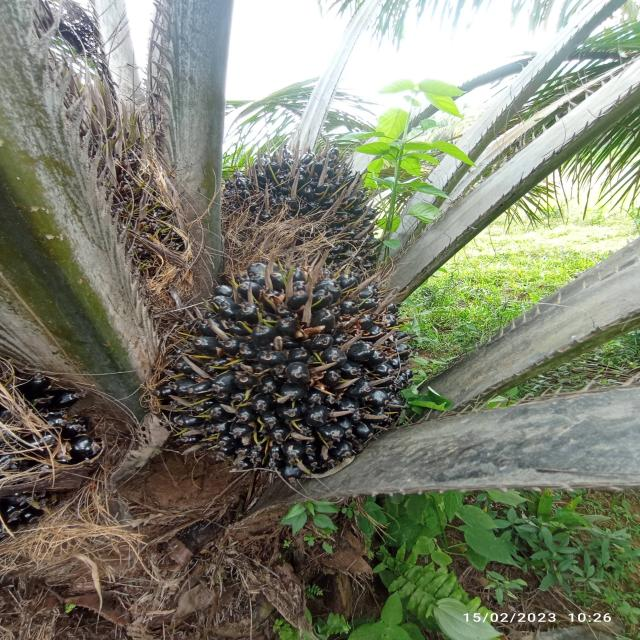fraksi 00: (157, 255, 436, 476), (232, 98, 394, 277)
